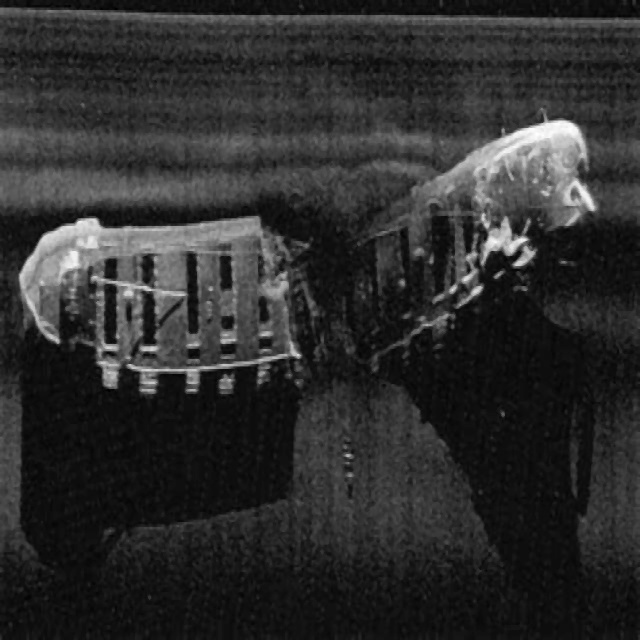Ship: (15, 91, 608, 429)
